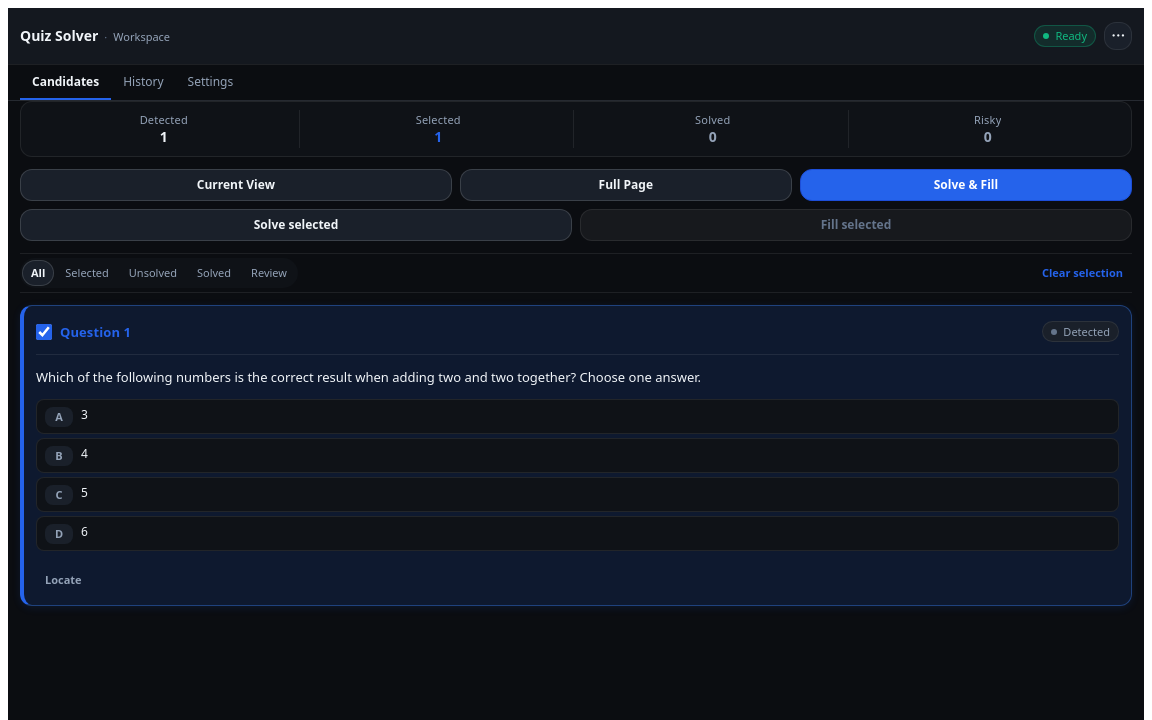
Test: UI-04 real App/actions/bridge/hydration feedback wiring › RF01-FB05 PROVIDER_NOT_CONFIGURED
Expected: the button "Solve selected" is shown, x1=20 y1=209 x2=572 y2=241
Click the button "Solve & Fill": (966,185) x1=800 y1=169 x2=1132 y2=201
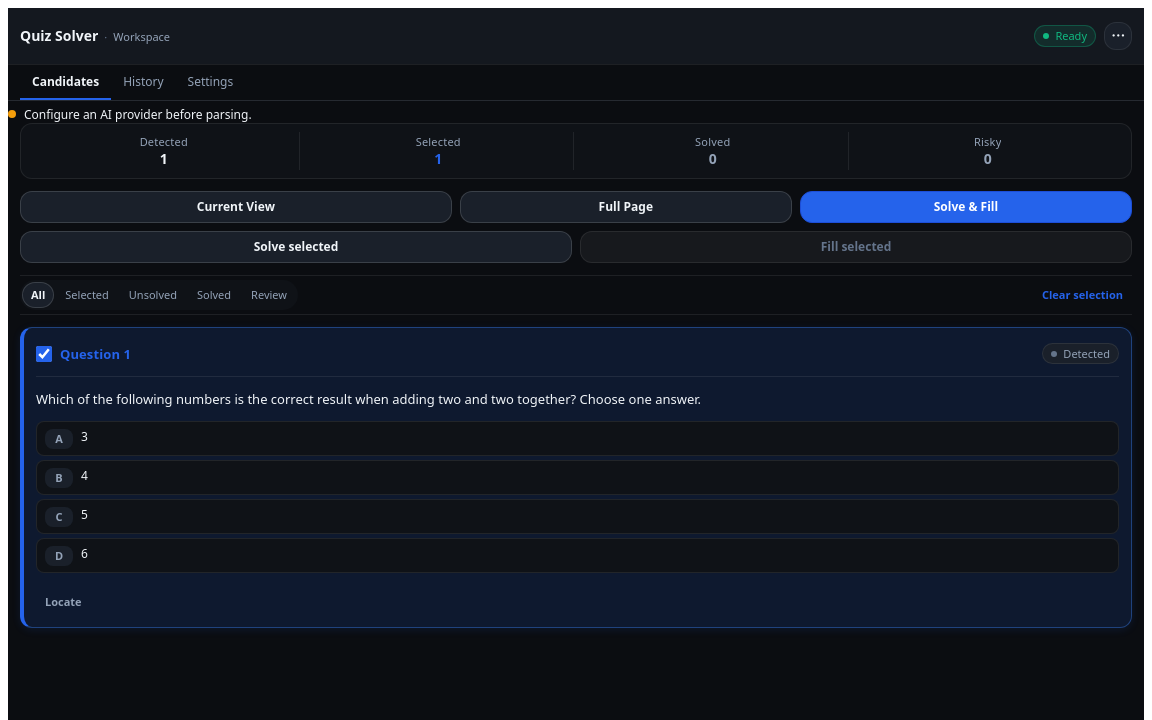
Now the element with test id "workspace-user-feedback" is shown, box x1=8 y1=106 x2=252 y2=122
Now the element with test id "workspace-user-feedback" shows "Configur", box x1=24 y1=106 x2=252 y2=122
